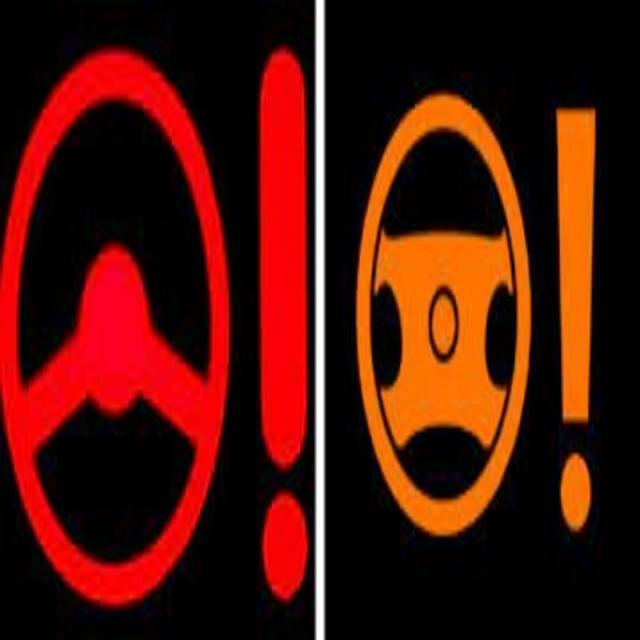Electronic Power Steering: (0, 44, 308, 606), (352, 85, 598, 538)
